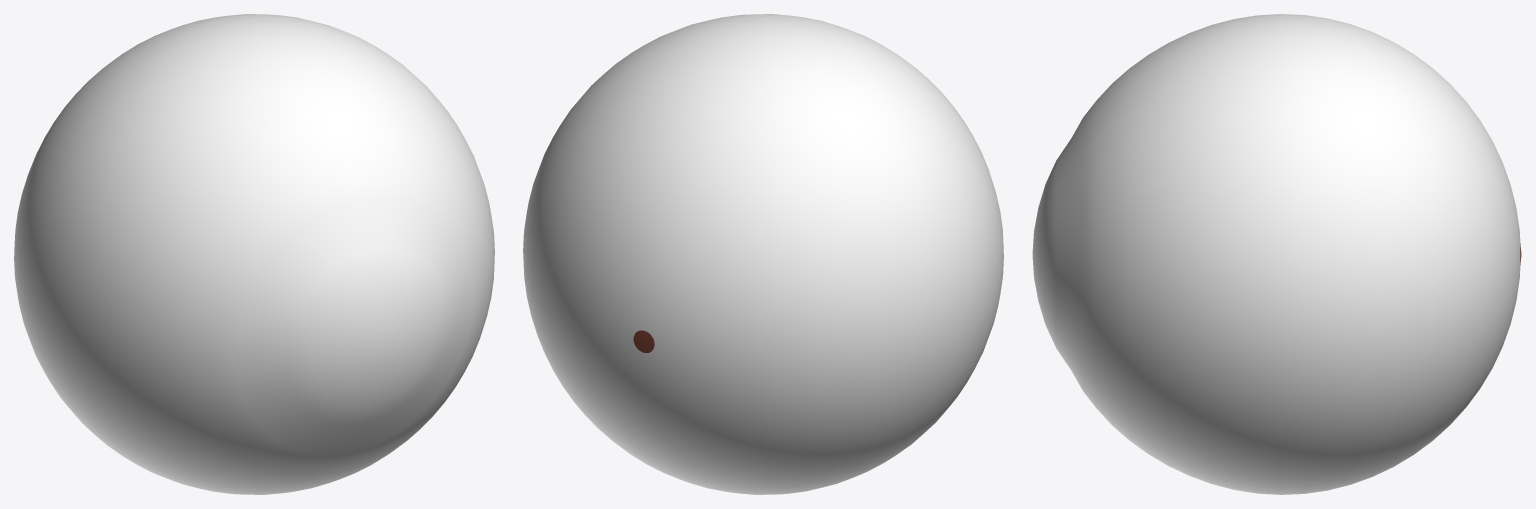
File: Eye-transformed.glb
The picture shows the model from 3 angles, left to right: view 1: azimuth 30°, elevation 25°; view 2: azimuth 150°, elevation 25°; view 3: azimuth 270°, elevation 25°; orthographic projection.
Visible parts, largest first — view 1: Eye; view 2: Eye; view 3: Eye.
Part boxes in pixels (box(x1,y1,x2,y2)): Eye: box(14, 14, 494, 494); Eye: box(523, 14, 1003, 494); Eye: box(1032, 14, 1521, 494).
Bounding box in the file's own units: 0.1899 × 0.1899 × 0.1929.
Materials: 2 (1 with a texture image).
